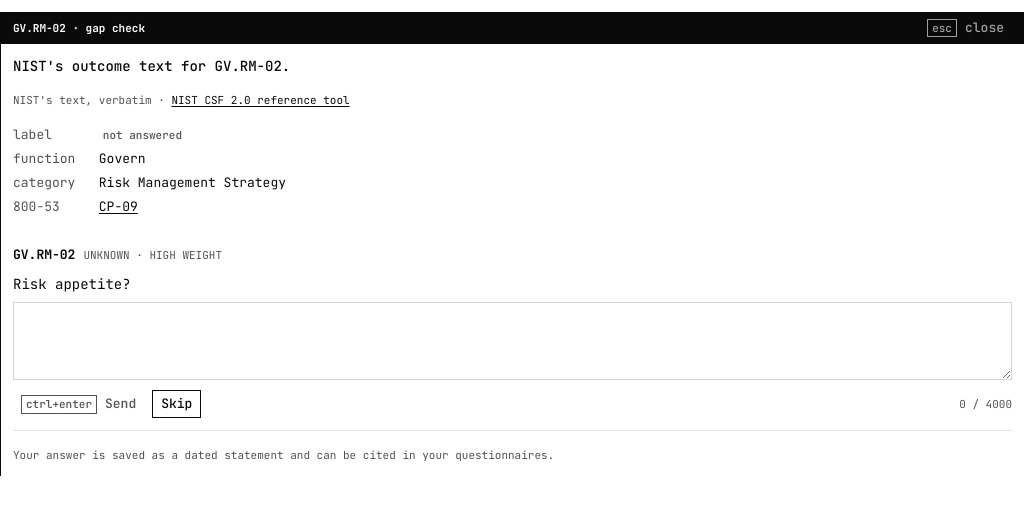
Test: GapDrawer › a 409 on the Ask-me card reloads the inspector, so the card shows the question as it is now (Task 6 review M2)
Type "Yes" into the text box named "your answer to GV.RM-02".
click(512, 341); type("Yes")  # box x1=13 y1=302 x2=1012 y2=380
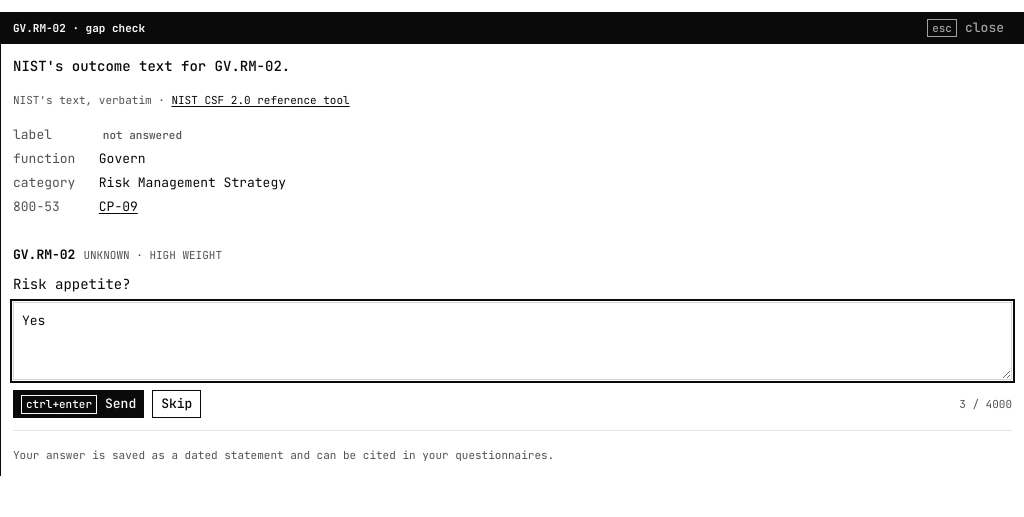
Click the button "ctrl+enter Send".
click(79, 404)  # box x1=13 y1=390 x2=144 y2=418
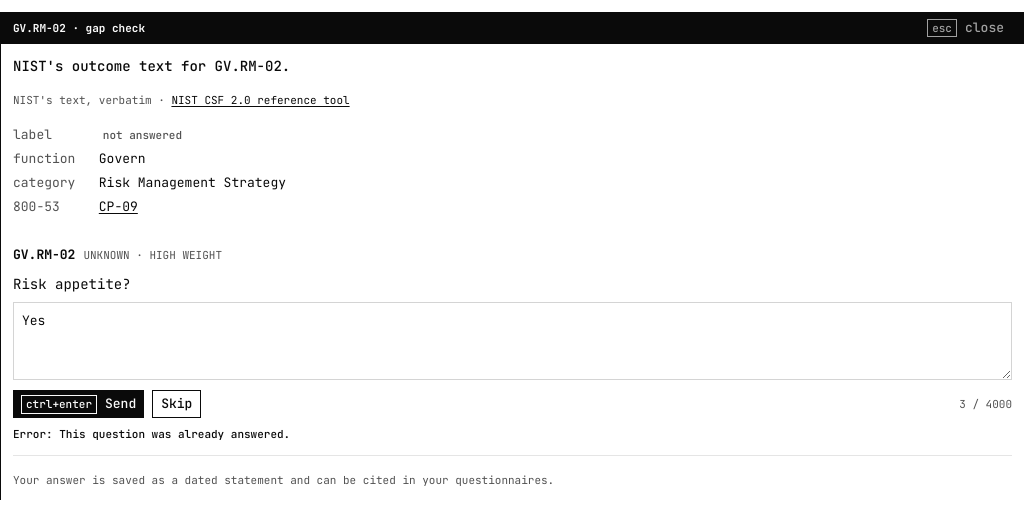
Now the text "Error: This question was already answered." is shown, box x1=13 y1=427 x2=290 y2=441
